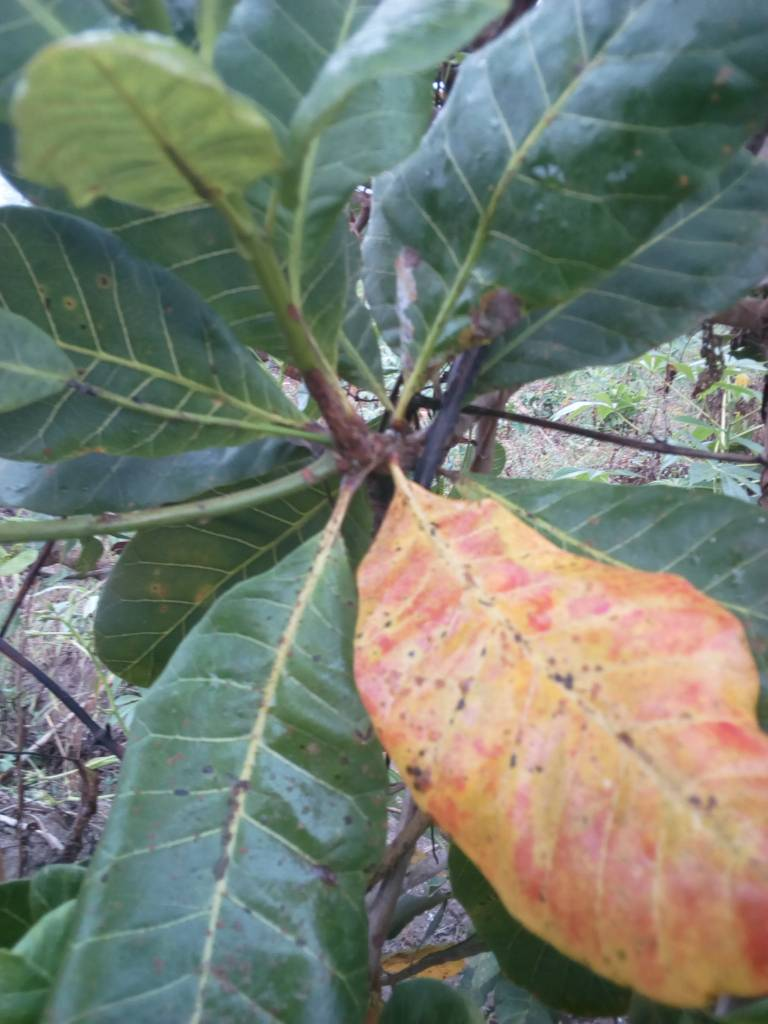Anthracnose: (354, 485, 766, 1003), (368, 1, 768, 374), (97, 519, 357, 1024), (1, 219, 285, 508)
